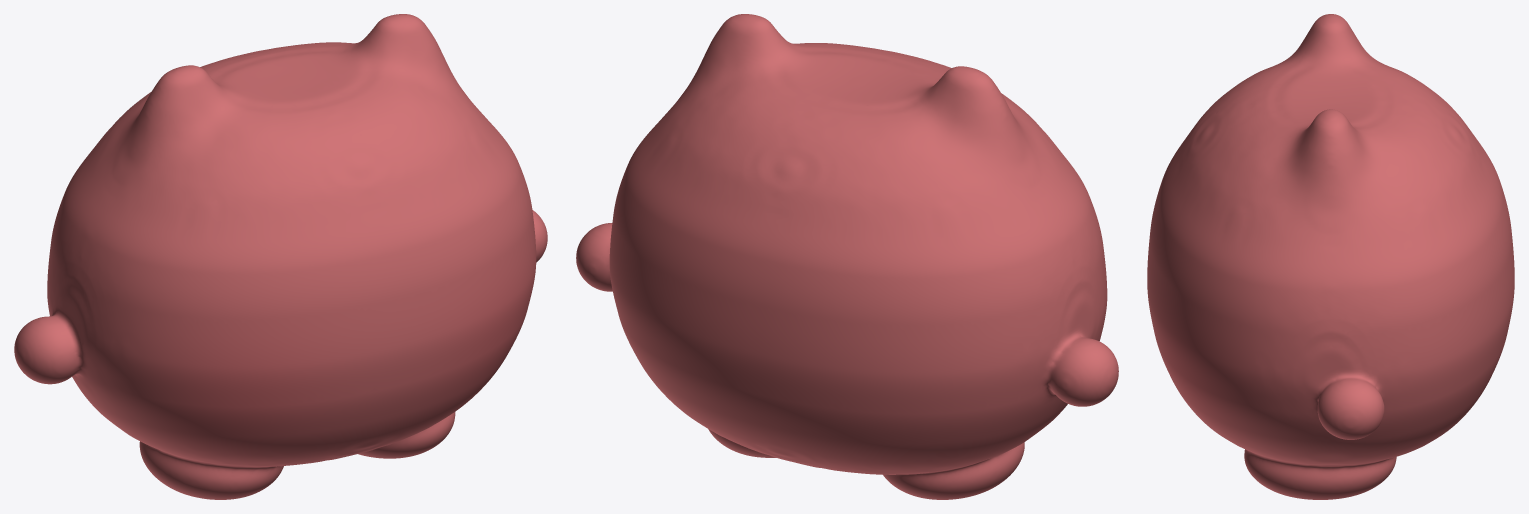
Rendered from body-only.glb.
3 renders of one model, left to right at view 1: azimuth 30°, elevation 25°; view 2: azimuth 150°, elevation 25°; view 3: azimuth 270°, elevation 25°, orthographic. The views are drawn at different scales.
Parts seen in each view (by area): view 1: A_mochi_skin; view 2: A_mochi_skin; view 3: A_mochi_skin.
Part boxes in pixels (<box>): A_mochi_skin: <box>14,14,547,499</box>; A_mochi_skin: <box>576,14,1118,499</box>; A_mochi_skin: <box>1147,14,1514,499</box>.
Bounding box in the file's own units: 2.38 × 1.79 × 1.57.
